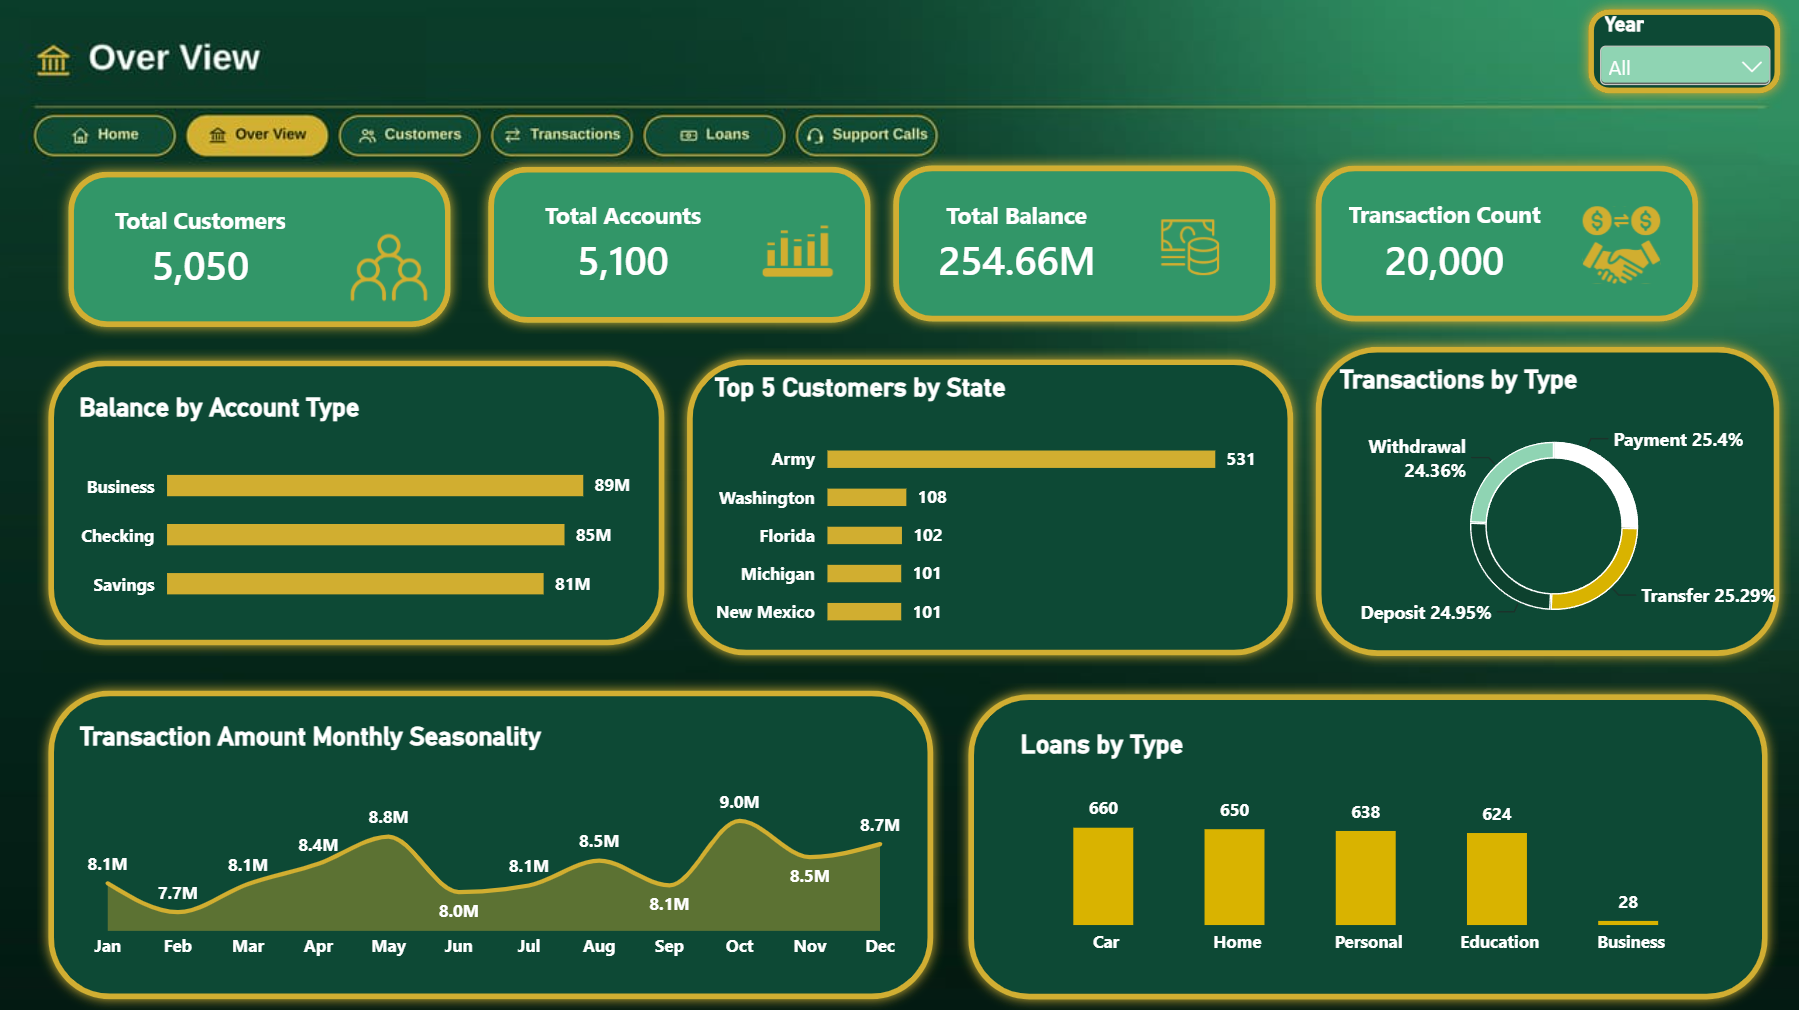

The dashboard page shown, as its layout file describes it:
{"tool":"powerbi","page":{"name":"OverView","canvas":[1280,720],"ordinal":1},"visuals":[{"type":"shape","box":[1119.7,0,152,75.5],"z":0},{"type":"shape","box":[28.4,248.9,452.7,217.9],"z":1000},{"type":"shape","box":[481.1,248.1,445.6,225.9],"z":2000},{"type":"shape","box":[28.3,482.4,643.2,234.8],"z":3000},{"type":"actionButton","box":[26.6,81.5,99.2,32.8],"z":4000},{"type":"actionButton","box":[241,81.5,99.2,32.8],"z":5000},{"type":"actionButton","box":[351.7,81.5,99.2,32.8],"z":6000},{"type":"actionButton","box":[458,81.5,99.2,32.8],"z":7000},{"type":"actionButton","box":[567.9,82.4,99.2,32.8],"z":8000},{"type":"shape","box":[42.5,115.2,287,126],"z":9000},{"type":"cardVisual","fields":{"Data":["_Measures.Total Customers"]},"box":[96.3,130.3,166.6,96.6],"z":10000},{"type":"shape","box":[339.9,111.4,287,126.5],"z":11000},{"type":"cardVisual","fields":{"Data":["_Measures.Total Accounts"]},"box":[402.2,127.5,166.6,96.6],"z":12000},{"type":"shape","box":[626.9,110.5,287,126.5],"z":13000},{"type":"cardVisual","fields":{"Data":["_Measures.Total Balance"]},"box":[687.3,125.6,166.6,96.6],"z":14000},{"type":"shape","box":[927.1,110.5,287,126.5],"z":15000},{"type":"cardVisual","fields":{"Data":["_Measures.Transaction Count"]},"box":[965.9,124.8,209.6,97.2],"z":16000},{"type":"lineChart","title":"\tTransaction Amount Monthly Seasonality","fields":{"Category":["Calender.Month Name"],"Y":["_Measures.Total Transaction Amount"]},"box":[42.5,497.5,619.3,202.9],"z":17000},{"type":"clusteredBarChart","title":"Top 5 Customers by State ","fields":{"Category":["customers.State"],"Y":["_Measures.Total Customers"]},"box":[492.8,251.1,422.6,217.9],"z":18000},{"type":"clusteredBarChart","title":"\tBalance by Account Type","fields":{"Category":["Accounts.AccountType"],"Y":["_Measures.Total Balance"]},"box":[42.5,264.9,425.3,189.6],"z":19000},{"type":"shape","box":[927.1,238.9,344.6,235.1],"z":20000},{"type":"donutChart","title":"\t   Transactions by Type","fields":{"Category":["Transactions.TransactionType"],"Y":["_Measures.Total Transaction Amount"]},"box":[935.6,245.5,336.1,221.9],"z":21000},{"type":"shape","box":[680.7,485.3,582.5,232.2],"z":22000},{"type":"clusteredColumnChart","title":"\tLoans by Type","fields":{"Category":["Loans.LoanType"],"Y":["_Measures.Total Loans"]},"box":[710,504.1,524.9,193.5],"z":23000},{"type":"slicer","fields":{"Values":["Calender.Year"]},"box":[1131,9.4,130.3,56.6],"z":24000}]}

Visuals, with their boxes in screenshot pixels (x1, y1, x2, y2), scaled from the page's 1280x720 canvas onto the 1799x1010 screenshot:
shape: [1574, 0, 1787, 106]
shape: [40, 349, 676, 655]
shape: [676, 348, 1302, 665]
shape: [40, 677, 944, 1006]
actionButton: [37, 114, 177, 160]
actionButton: [339, 114, 478, 160]
actionButton: [494, 114, 634, 160]
actionButton: [644, 114, 783, 160]
actionButton: [798, 116, 938, 162]
shape: [60, 162, 463, 338]
cardVisual - _Measures.Total Customers: [135, 183, 369, 318]
shape: [478, 156, 881, 334]
cardVisual - _Measures.Total Accounts: [565, 179, 799, 314]
shape: [881, 155, 1284, 332]
cardVisual - _Measures.Total Balance: [966, 176, 1200, 312]
shape: [1303, 155, 1706, 332]
cardVisual - _Measures.Transaction Count: [1358, 175, 1652, 311]
"	Transaction Amount Monthly Seasonality" lineChart: [60, 698, 930, 983]
"Top 5 Customers by State " clusteredBarChart: [693, 352, 1287, 658]
"	Balance by Account Type" clusteredBarChart: [60, 372, 657, 638]
shape: [1303, 335, 1787, 665]
"	   Transactions by Type" donutChart: [1315, 344, 1787, 656]
shape: [957, 681, 1775, 1006]
"	Loans by Type" clusteredColumnChart: [998, 707, 1736, 979]
slicer - Calender.Year: [1590, 13, 1773, 93]
